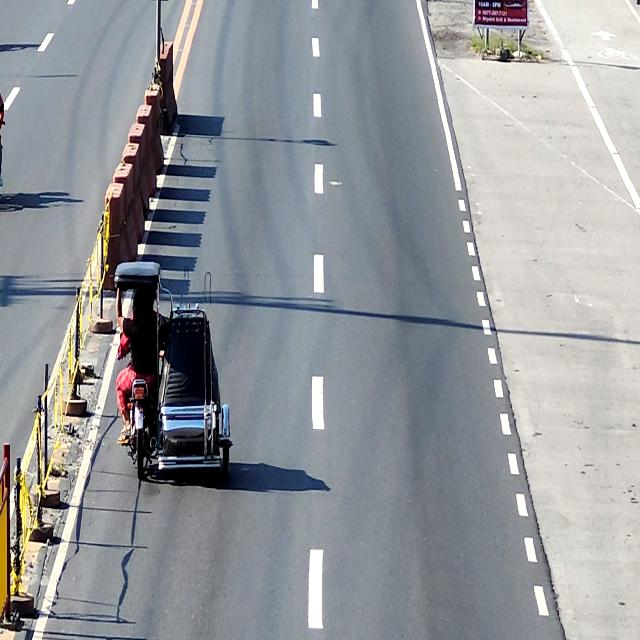Tricycle: (114, 260, 234, 481)
